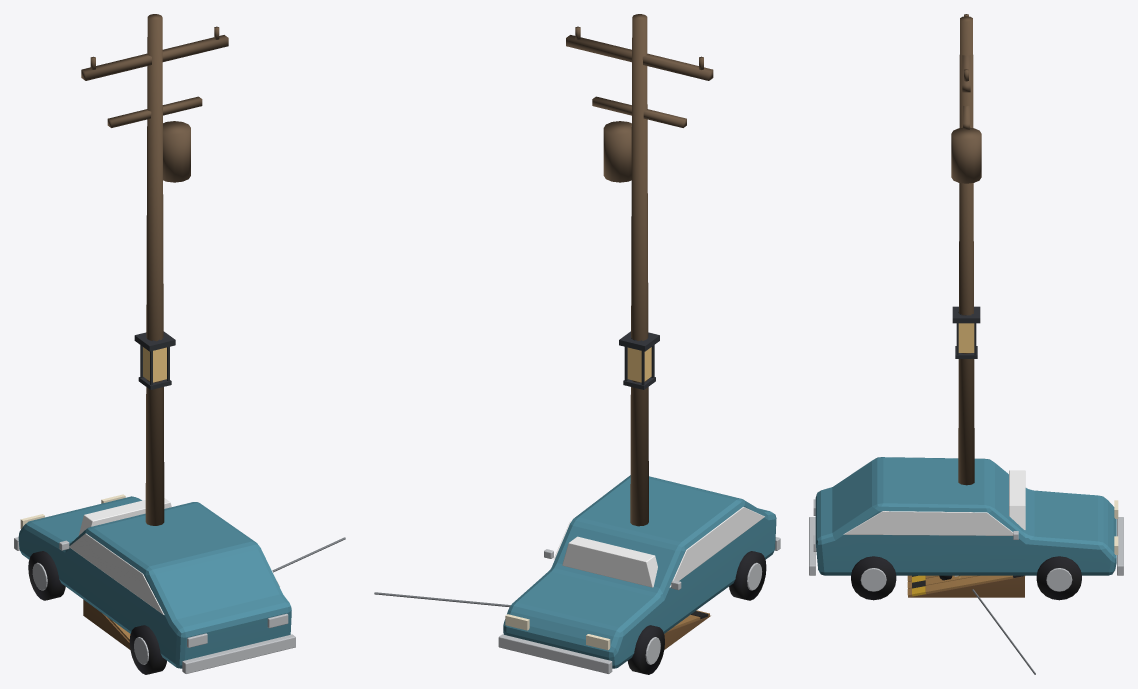
File: props.glb
The picture shows the model from 3 angles, left to right: view 1: azimuth 30°, elevation 25°; view 2: azimuth 150°, elevation 25°; view 3: azimuth 270°, elevation 25°; orthographic projection. The views are drawn at different scales.
Visible parts, largest first — view 1: car, pole, lamp, ramp; view 2: car, pole, lamp, ramp; view 3: car, pole, ramp, lamp.
Part boxes in pixels (<box>): car: <box>14,494,295,674</box>; pole: <box>81,14,228,525</box>; lamp: <box>134,331,175,389</box>; ramp: <box>83,599,130,649</box>; car: <box>498,475,780,674</box>; pole: <box>566,14,713,526</box>; lamp: <box>619,331,659,389</box>; ramp: <box>664,610,710,649</box>; car: <box>809,457,1123,600</box>; pole: <box>951,14,981,485</box>; ramp: <box>907,575,1024,597</box>; lamp: <box>952,306,980,358</box>.
Bounding box in the file's own units: 4.6 × 9.04 × 4.58.
